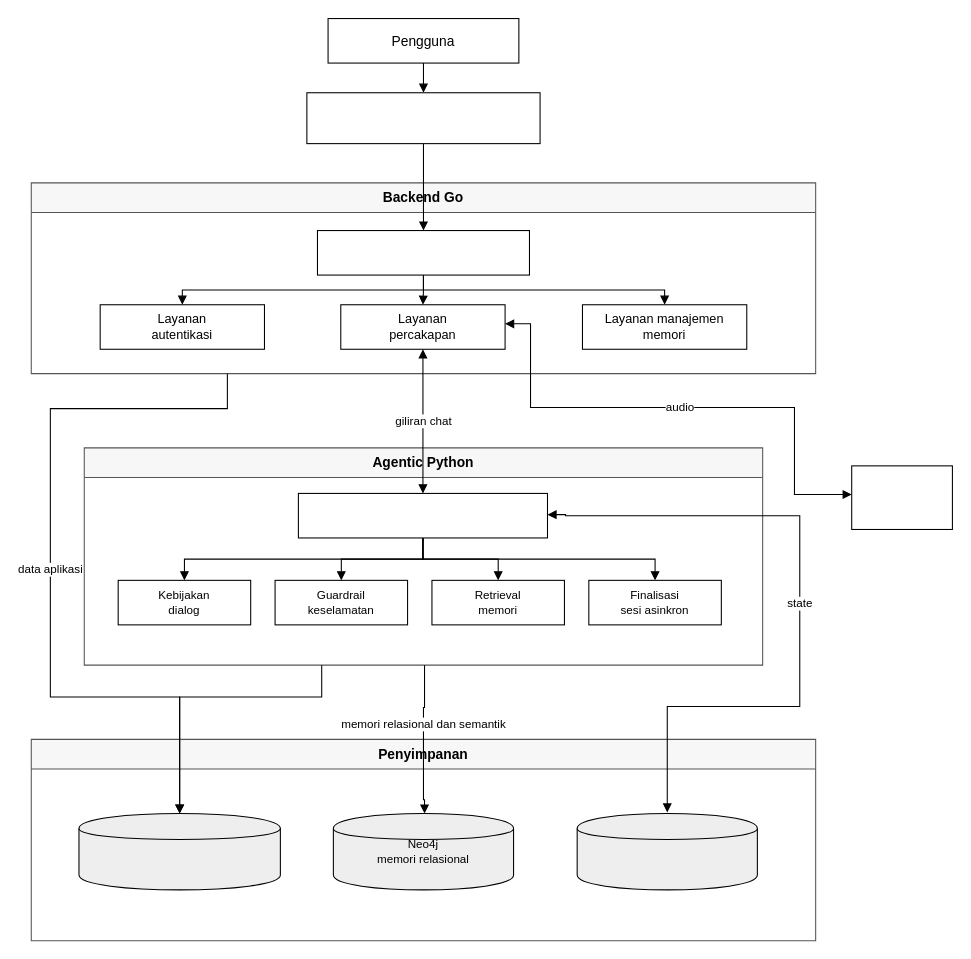
The diagram is 971 pixels wide and 959 high, and some of its shapes have lost their labels. The shapes that lost their labels are listed below. From the top down, each one's centre as x and y in pixels, then its label:
At point (423, 118): "Aplikasi web".
At point (422, 252): "API Gateway".
At point (422, 515): "Orkestrasi percakapan".
At point (901, 497): "Provider STT/TTS".
At point (179, 851): "PostgreSQL + pgvector akun, sesi, pesan, vektor".
At point (666, 851): "Redis state sementara".
